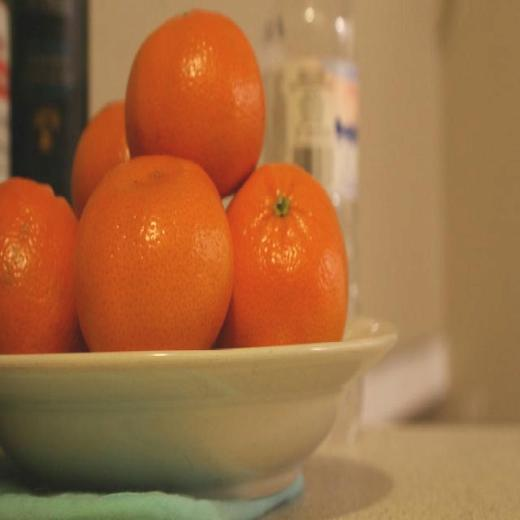Grape: (74, 142, 234, 350), (124, 5, 268, 194), (225, 159, 349, 347), (2, 177, 72, 358), (69, 102, 124, 212)
